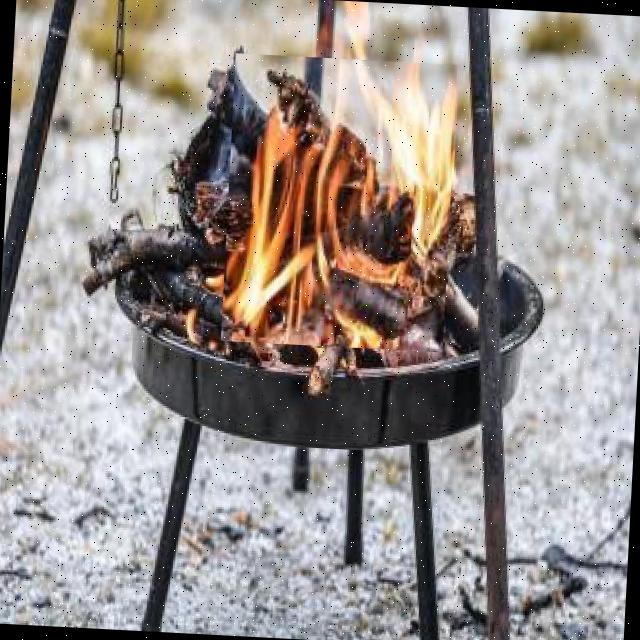fire: (220, 54, 458, 352)
